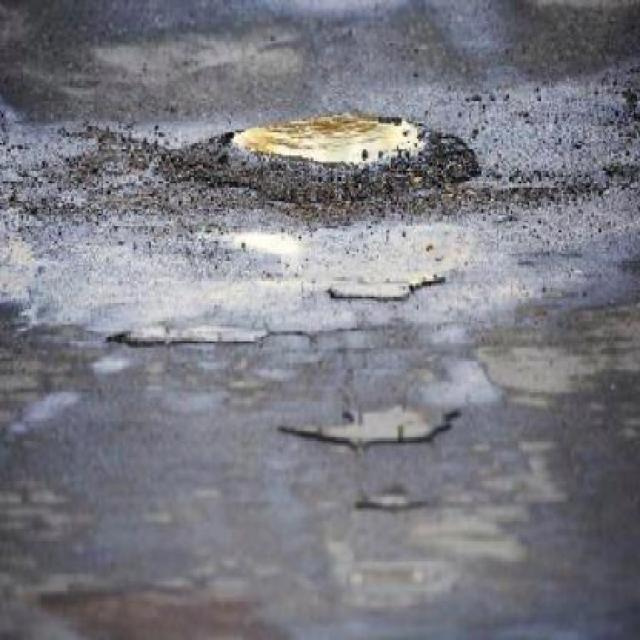pothole1: (164, 115, 482, 214), (279, 405, 461, 450), (109, 330, 271, 355), (328, 275, 447, 303), (356, 495, 430, 516)
